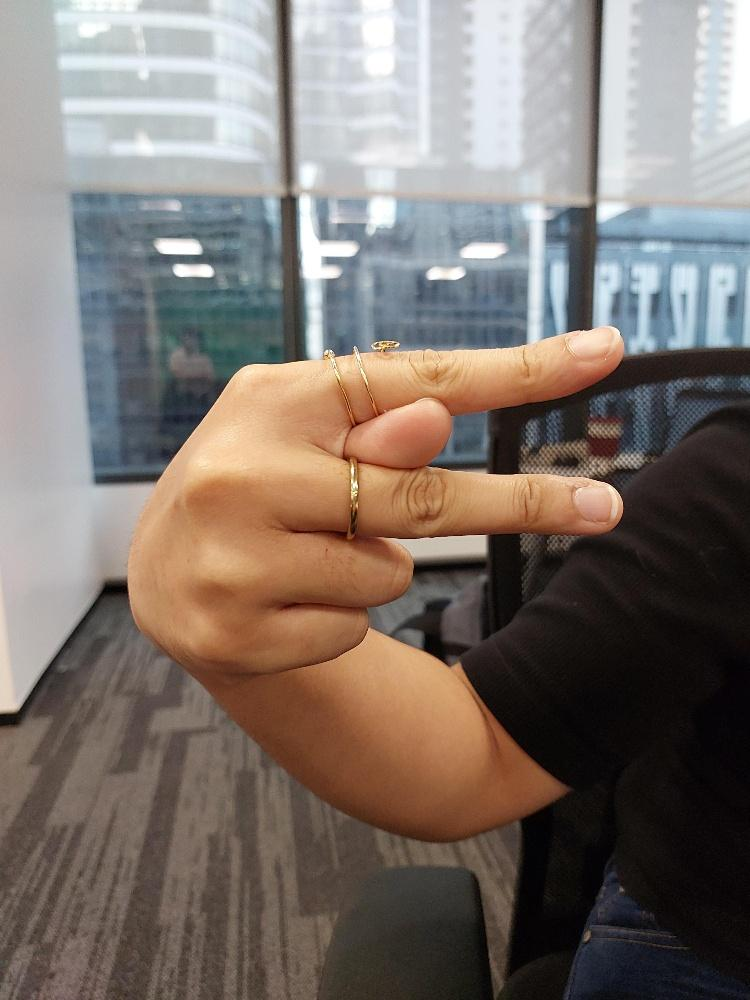k: (123, 318, 626, 678)
